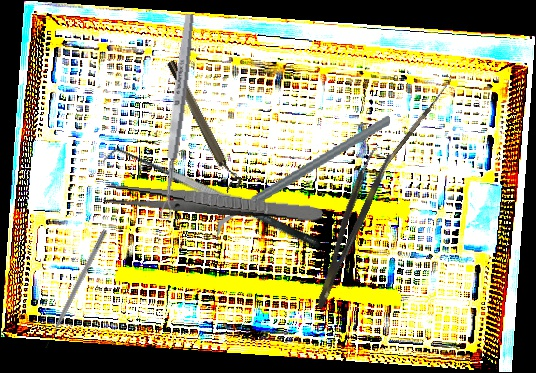Chopper: (202, 113, 404, 240)
Dressing Forceps: (102, 182, 324, 224)
Fixation Ring: (164, 56, 245, 193)
Hook Surgical: (374, 74, 454, 173)
Pusher: (41, 228, 109, 349)
Spatula Surgical: (101, 133, 324, 268)
Surgical Spoon: (157, 12, 197, 221)
Tissue Forceps: (302, 145, 394, 310)
